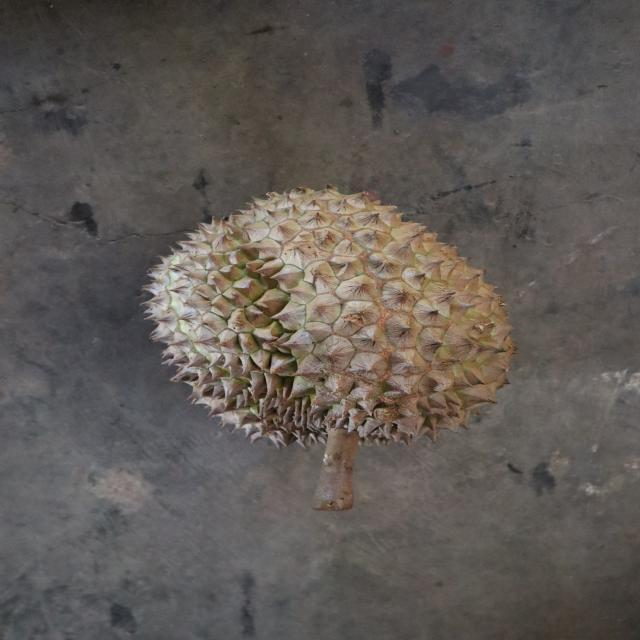mature: (140, 182, 519, 444)
